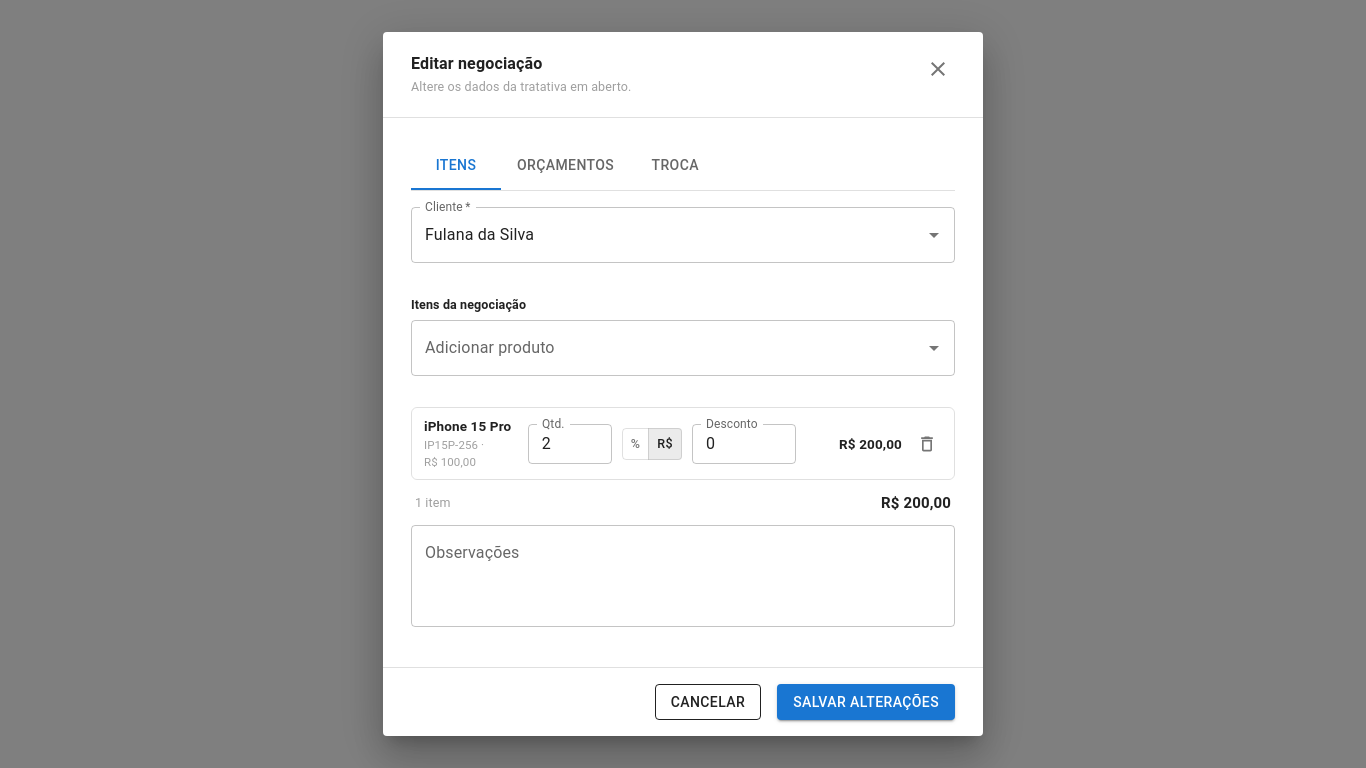
Test: NegotiationFormModal — aba Troca (spec 007, ticket 01) › Negociação Ganha: a aba Troca é só consulta
Click the tab "Troca": click(675, 166) [630, 142, 720, 190]
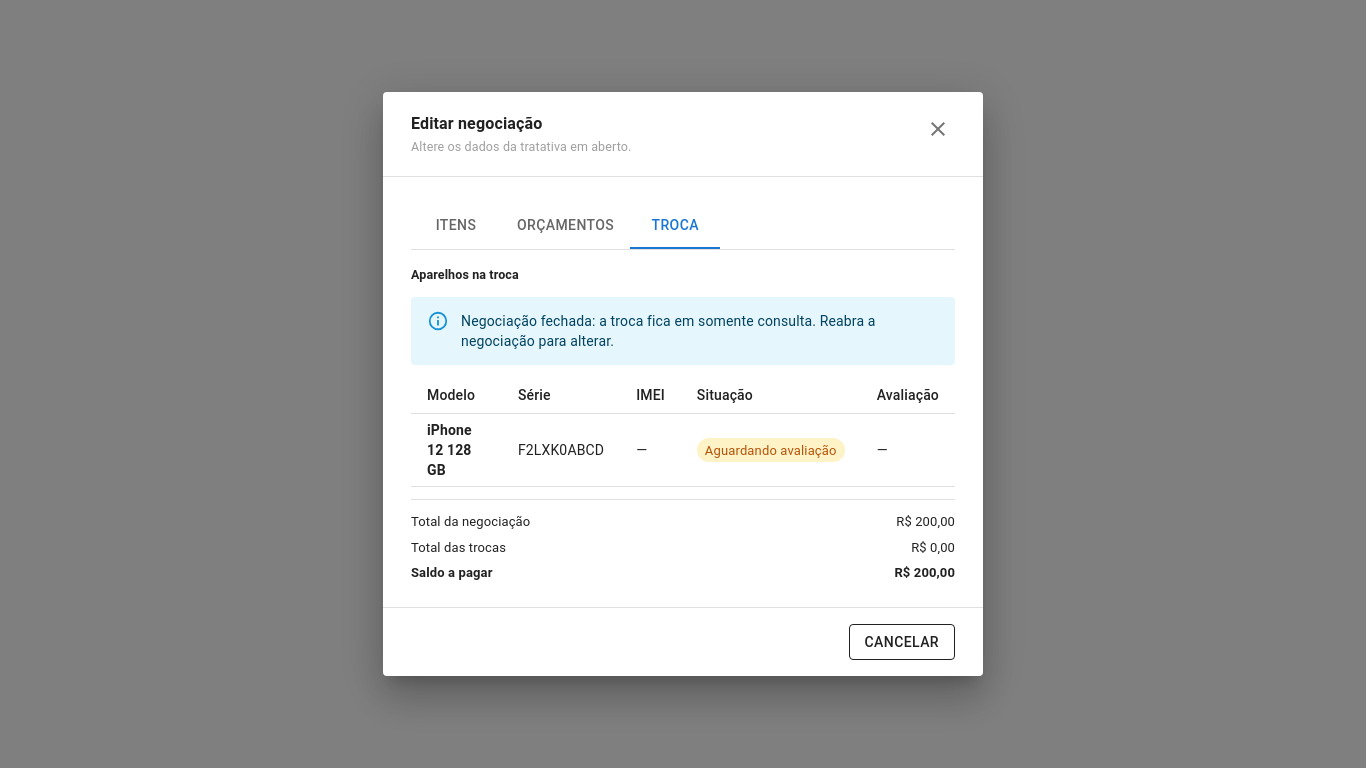
Check: the text "iPhone 12 128 GB" is shown, box [411, 414, 502, 487]
